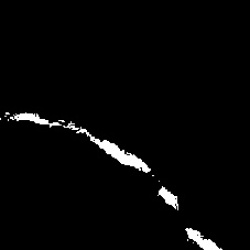crack: (10, 113, 150, 171), (184, 229, 220, 249), (159, 187, 177, 209)
